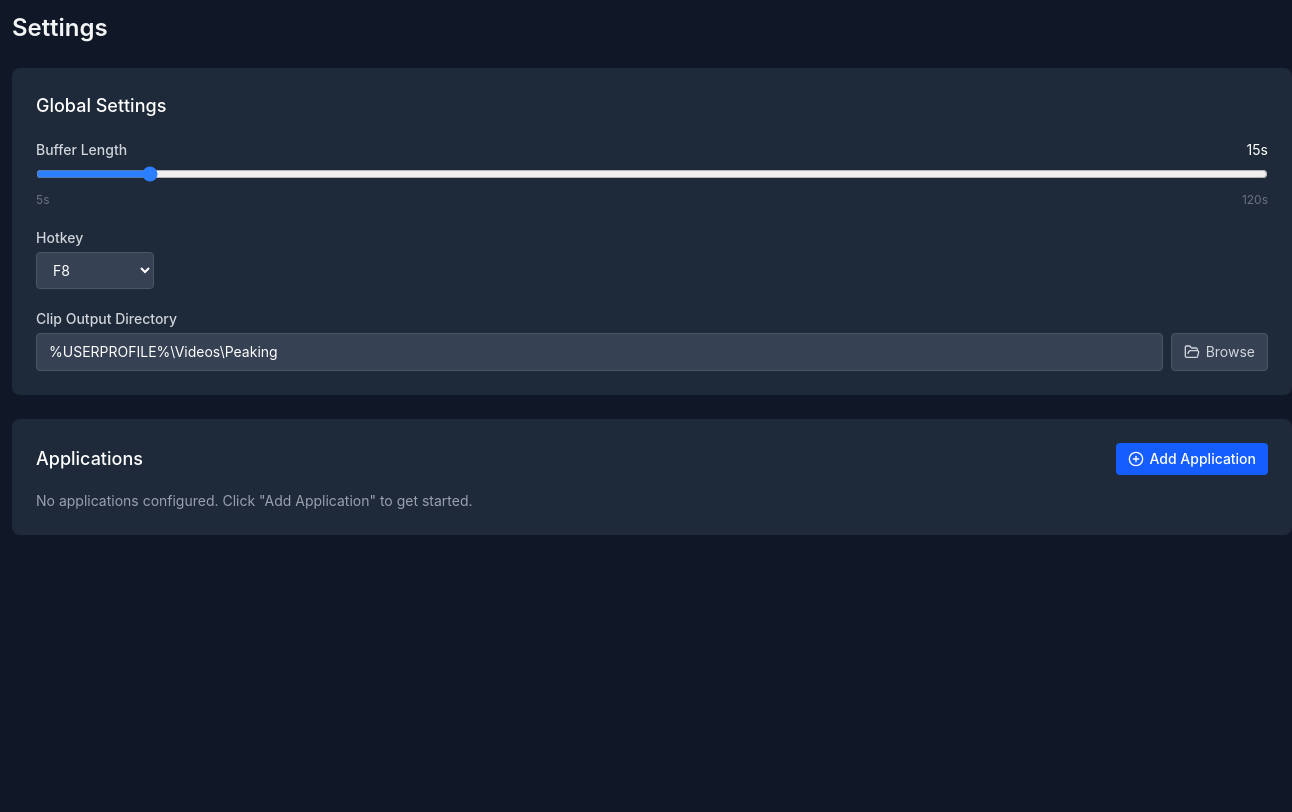
Test: Settings › shows Settings saved feedback after auto-save
The width and height of the screenshot is (1292, 812).
Select "F12" in the dropdown named "Hotkey": (95, 270) [36,252,154,289]
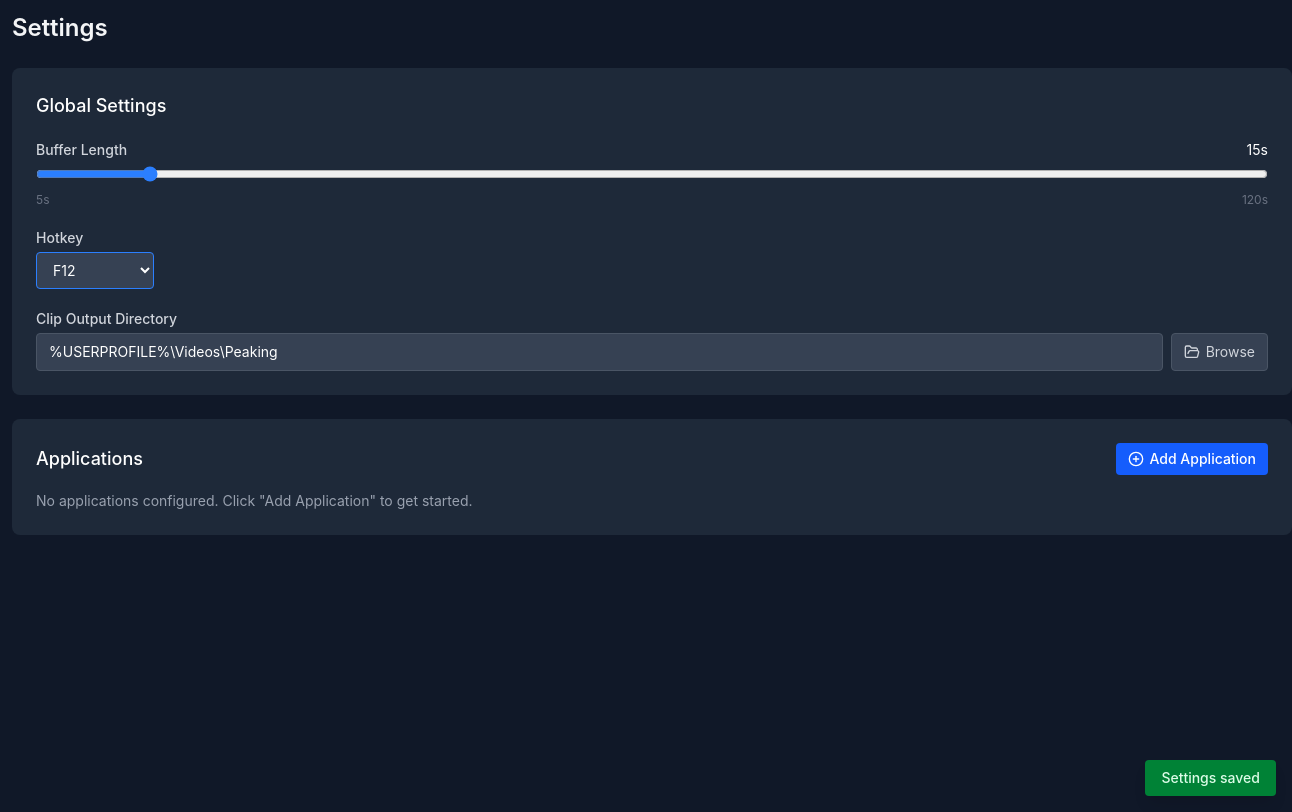
Check: the text "Settings saved" is shown, box [1145,760,1276,796]
